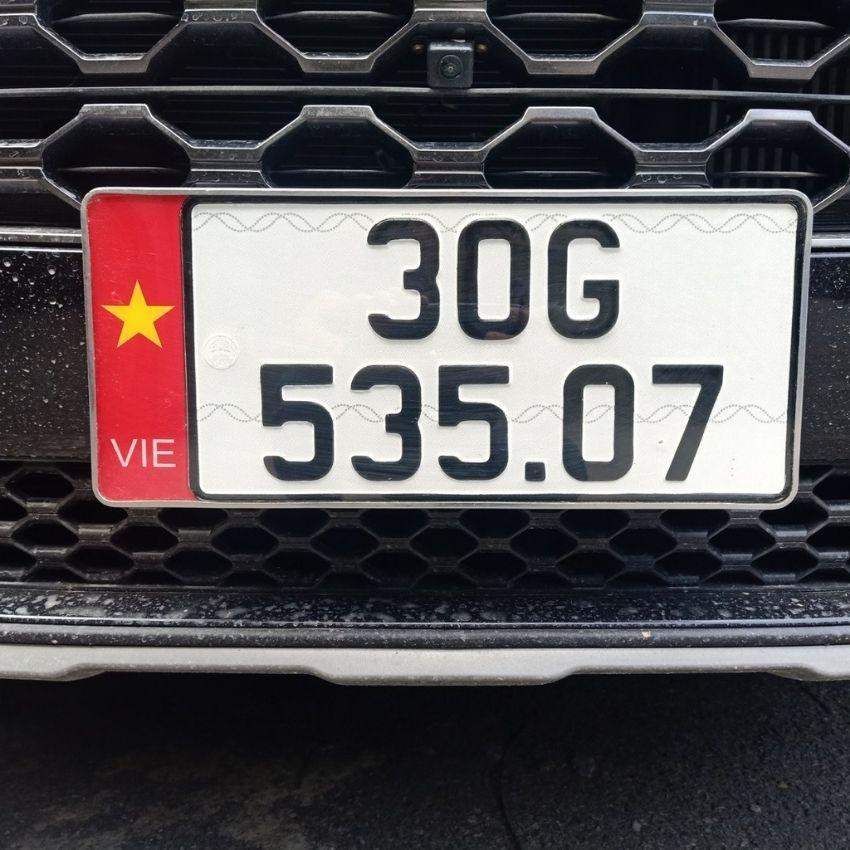numplate: (81, 175, 808, 517)
